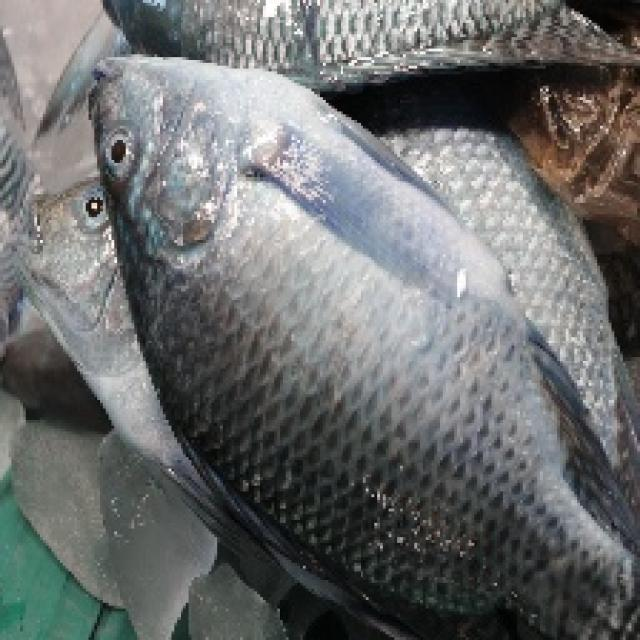Fresh: (82, 44, 504, 510)
